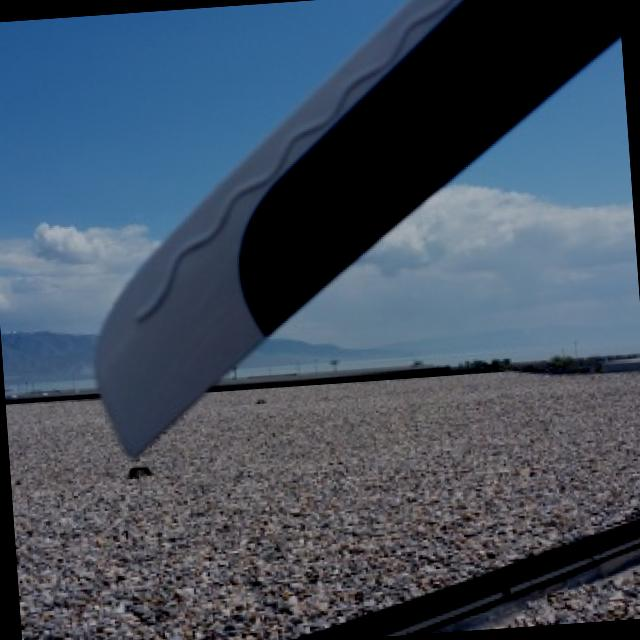healthy: (99, 0, 620, 453)
